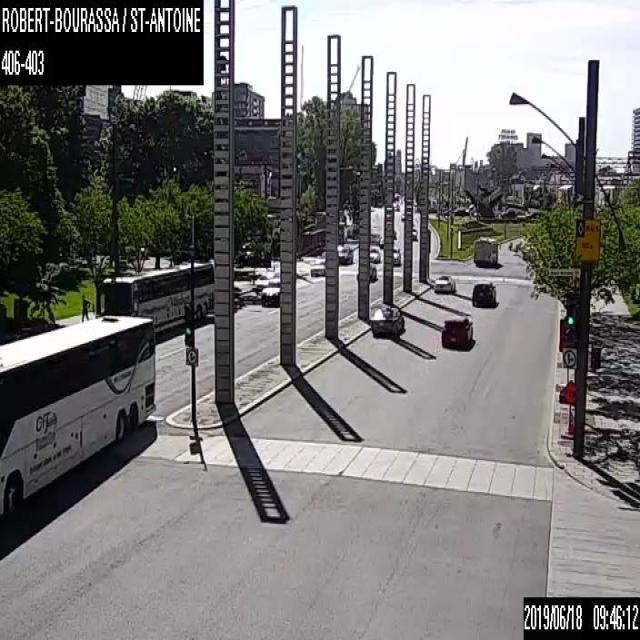bus: (0, 312, 155, 516), (103, 259, 214, 333)
construction: (557, 377, 574, 440)
pedestrian: (79, 293, 90, 320)
vehicle: (369, 304, 404, 337), (441, 316, 472, 350), (473, 235, 497, 266), (471, 280, 495, 306), (260, 278, 280, 306), (256, 270, 279, 290), (356, 261, 376, 283), (434, 273, 455, 292), (337, 244, 353, 264), (310, 257, 324, 275), (369, 247, 380, 261), (393, 246, 400, 264), (378, 237, 384, 248), (412, 227, 416, 240), (392, 227, 396, 238), (400, 212, 404, 220), (191, 259, 192, 260)
